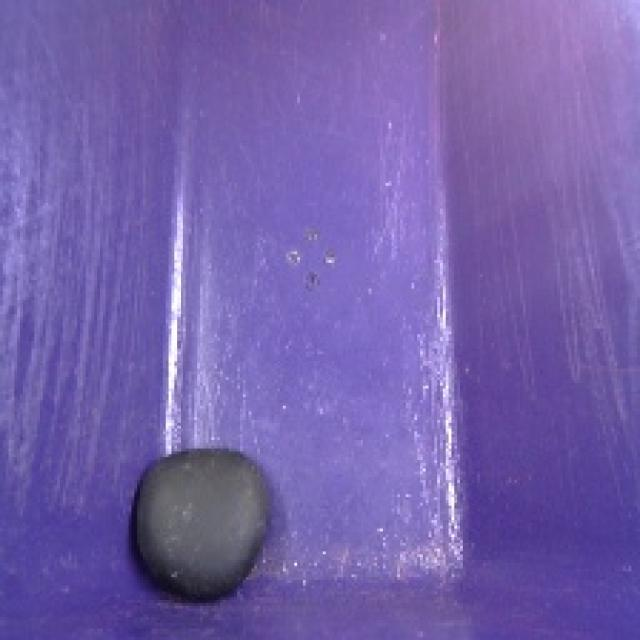cobbles: (121, 437, 282, 611)
